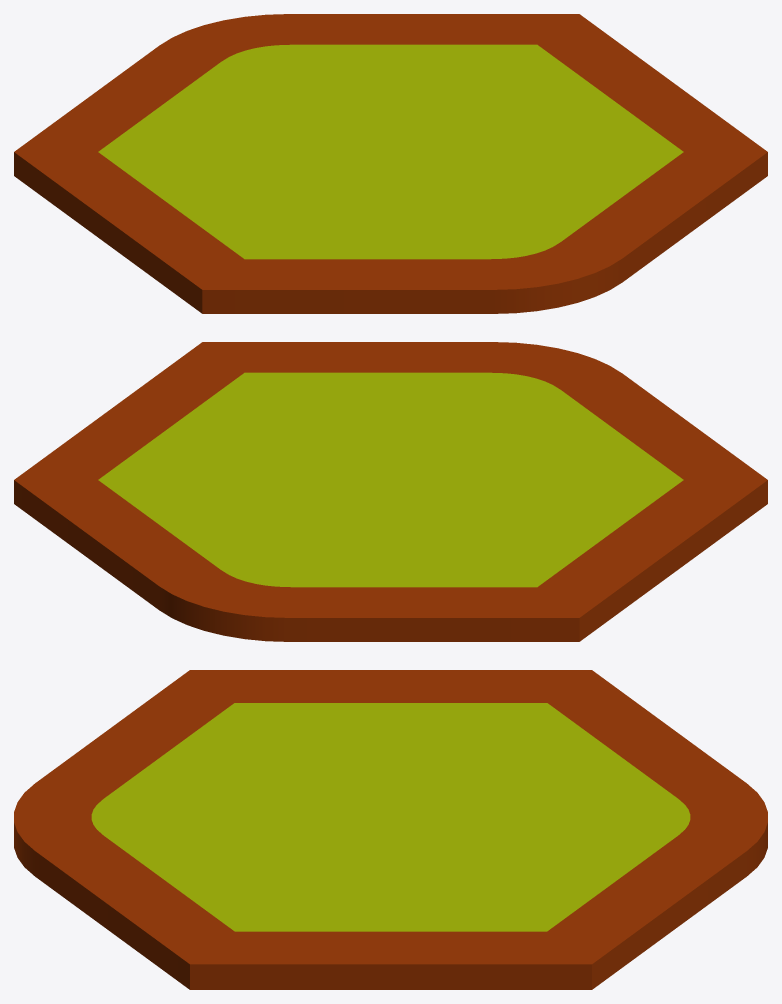
The model's file is RoomFloor_LP.FBX.
3 views of the same model, one above another, from view 1: azimuth 30°, elevation 25°; view 2: azimuth 150°, elevation 25°; view 3: azimuth 270°, elevation 25° (orthographic). The views are drawn at different scales.
Visible parts, largest first — view 1: FinalRoomFloor LP; view 2: FinalRoomFloor LP; view 3: FinalRoomFloor LP.
Boxes of the visible parts, x1,y1,x2,y2 form: FinalRoomFloor LP: [14, 14, 767, 313]; FinalRoomFloor LP: [14, 342, 767, 641]; FinalRoomFloor LP: [14, 670, 767, 989].
Bounding box in the file's own units: 16662 × 676 × 18039.
